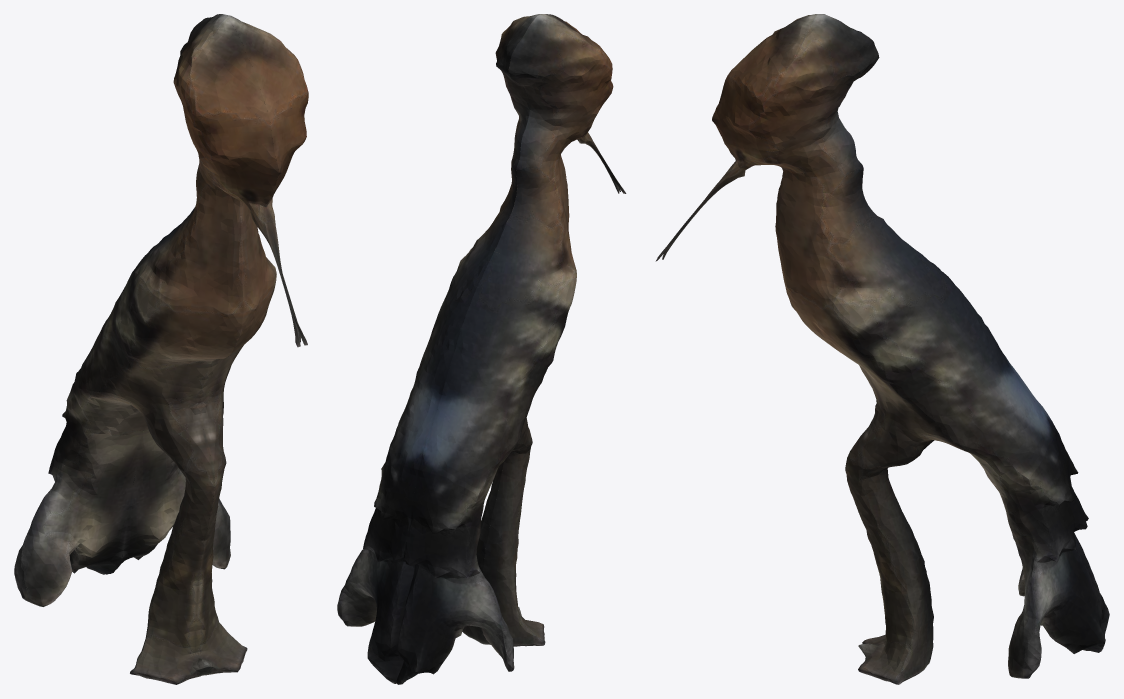
3 renders of one model, left to right at view 1: azimuth 30°, elevation 25°; view 2: azimuth 150°, elevation 25°; view 3: azimuth 270°, elevation 25°, orthographic. The views are drawn at different scales.
Parts seen in each view (by area): view 1: Mesh_0.002; view 2: Mesh_0.002; view 3: Mesh_0.002.
Part boxes in pixels (x1,y1,x2,y2): Mesh_0.002: [14, 14, 308, 684]; Mesh_0.002: [337, 14, 626, 684]; Mesh_0.002: [655, 14, 1109, 684].
Bounding box in the file's own units: 0.0921 × 0.2952 × 0.1873.
1 material, 1 textured.
